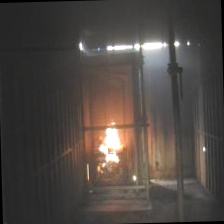fire: (89, 114, 133, 178)
